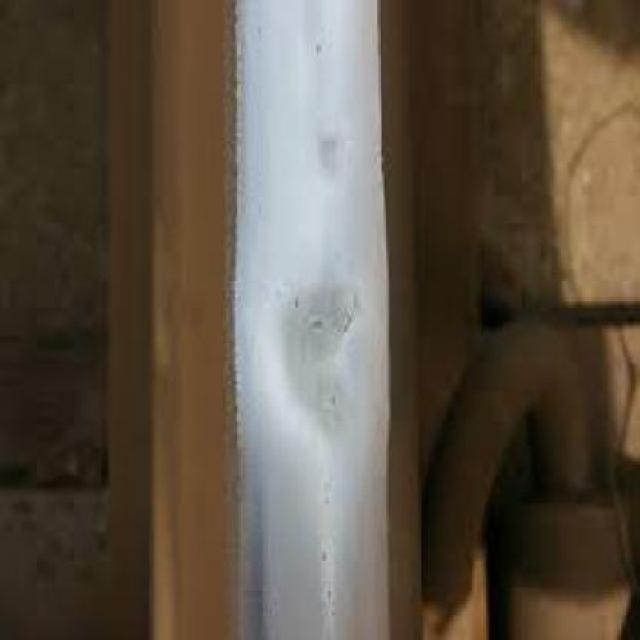defective: (217, 138, 429, 640)
